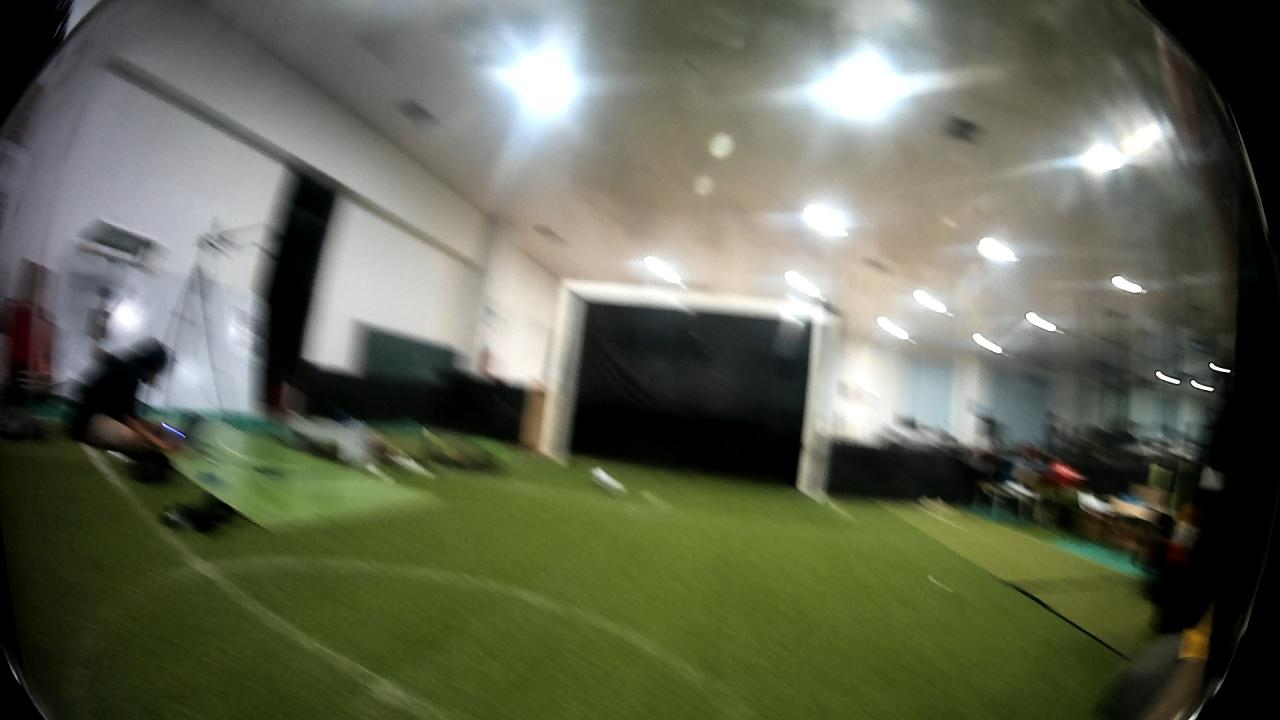ball: (590, 463, 627, 495)
